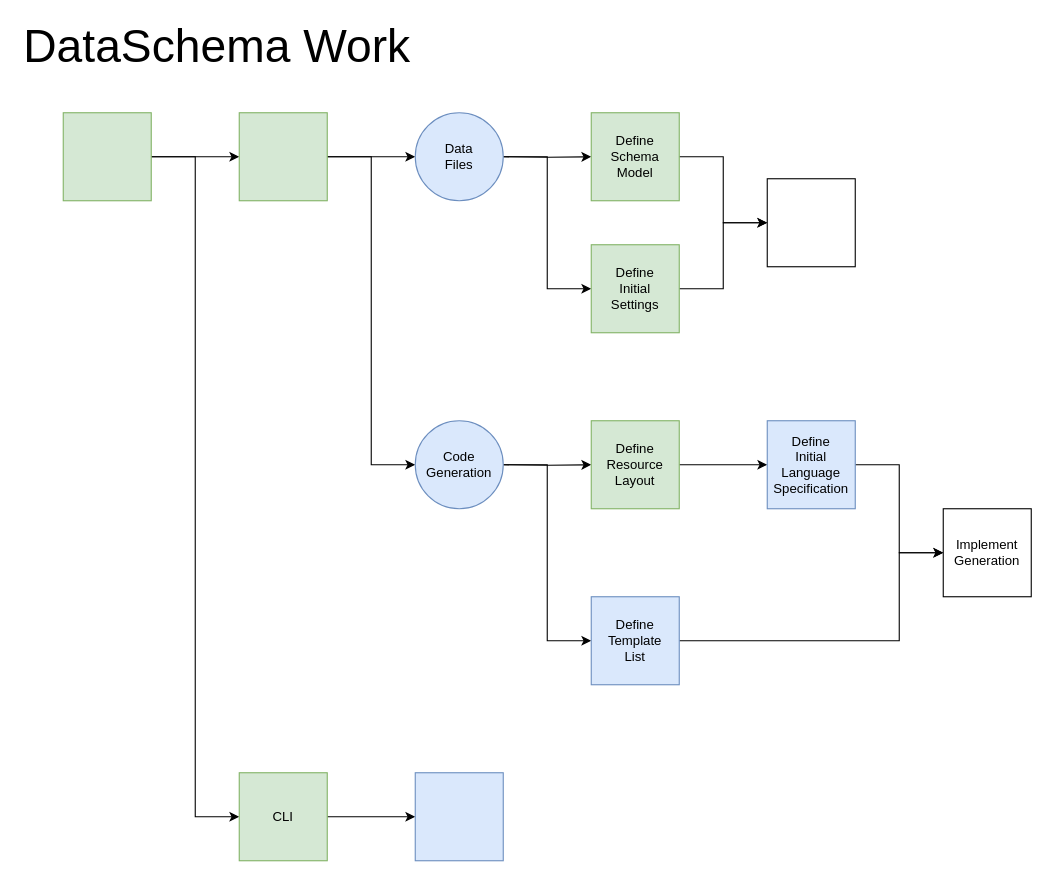
The diagram is 1051 pixels wide and 880 high, and some of its shapes have lost their labels. The shapes that lost their labels are listed below. From the top down, each one's centre as x and y in pixels, then its label:
At point 106,156: "Create Project Modules".
At point 282,156: "Library".
At point 810,222: "Implement Parsing".
At point 458,816: "Await Library Module".
